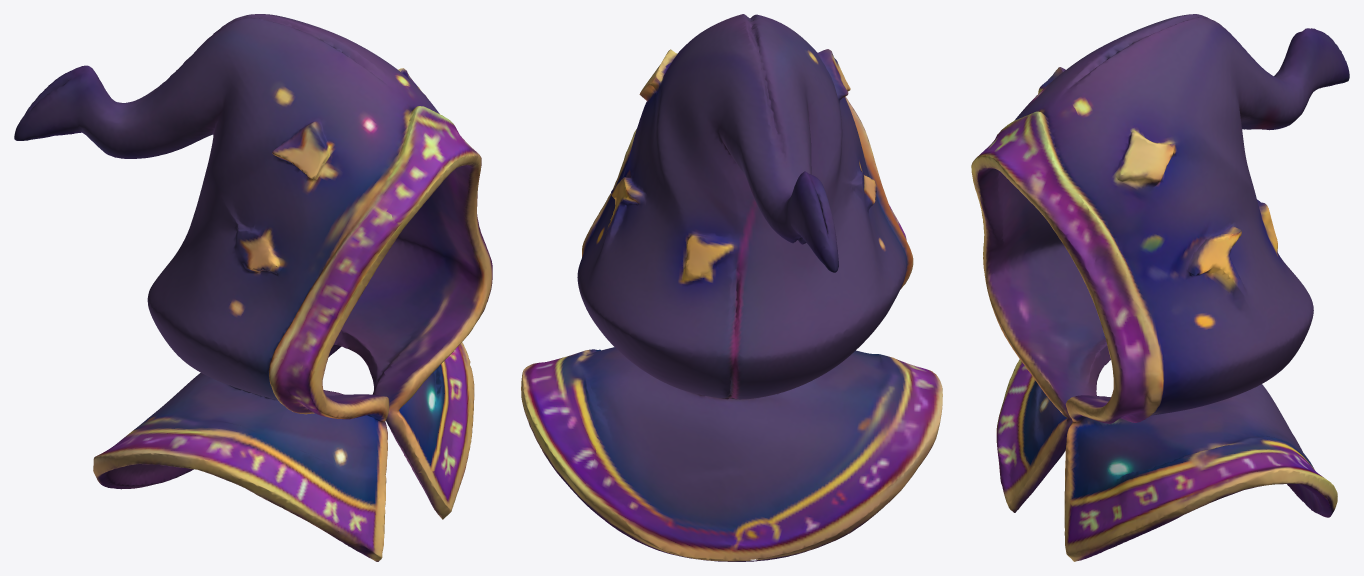
Rendered from elmo-mago.glb.
3 views of the same model, side by side, from view 1: azimuth 30°, elevation 25°; view 2: azimuth 150°, elevation 25°; view 3: azimuth 270°, elevation 25° (orthographic). The views are drawn at different scales.
Visible parts, largest first — view 1: tripo_node_348cfa14-4567-48c2-84bf-d45ecf17947c.001; view 2: tripo_node_348cfa14-4567-48c2-84bf-d45ecf17947c.001; view 3: tripo_node_348cfa14-4567-48c2-84bf-d45ecf17947c.001.
Boxes of the visible parts, bbox=[...] form: tripo_node_348cfa14-4567-48c2-84bf-d45ecf17947c.001: bbox=[14, 14, 492, 561]; tripo_node_348cfa14-4567-48c2-84bf-d45ecf17947c.001: bbox=[521, 14, 942, 561]; tripo_node_348cfa14-4567-48c2-84bf-d45ecf17947c.001: bbox=[971, 14, 1349, 561].
Size of the model in its own units: 0.1728 by 0.2168 by 0.1528.
Materials: 1 (1 with a texture image).
